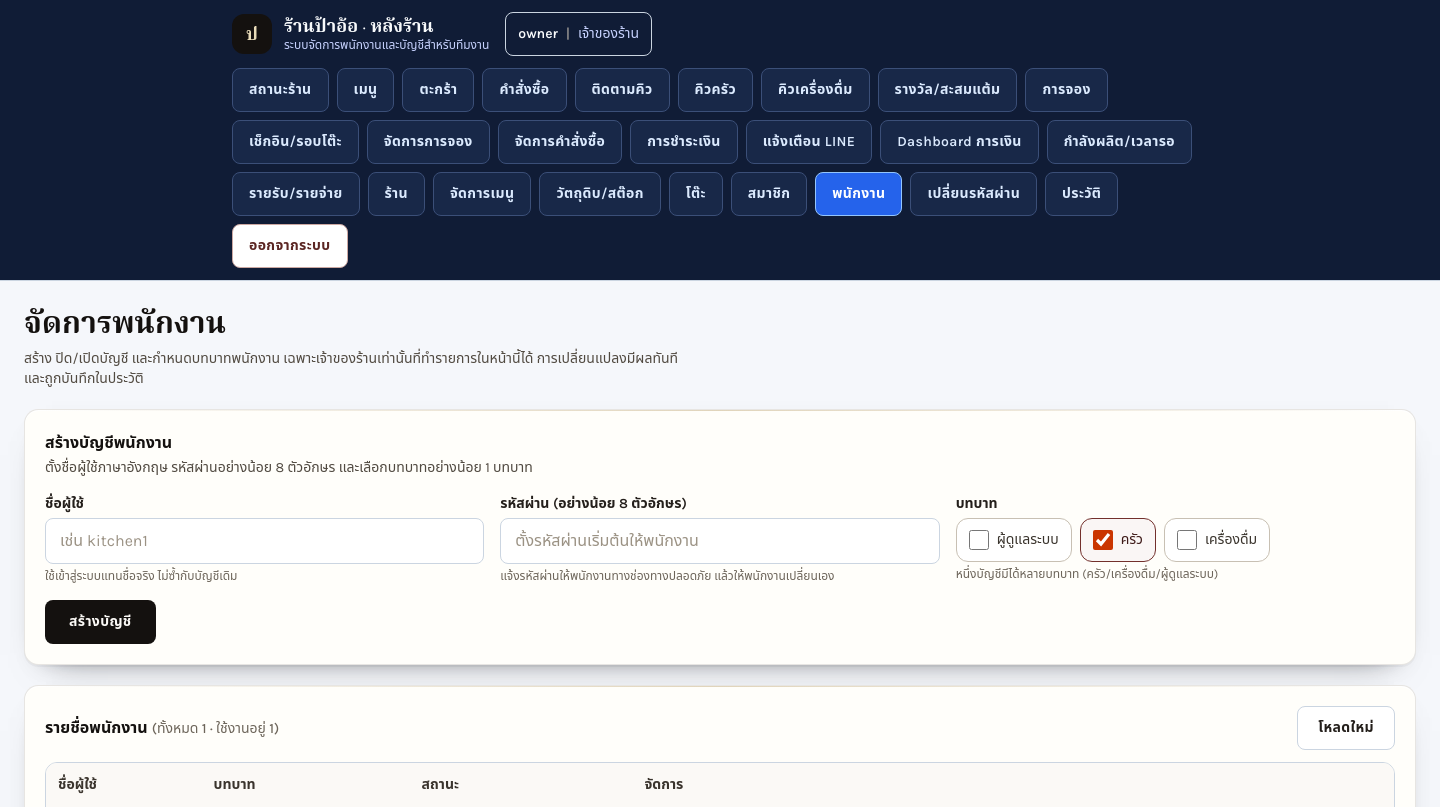
Test: App ระดับ integration (login/session flow) › ออกจากระบบแล้วกลับไปหน้าล็อกอิน
expect the heading "จัดการพนักงาน" is shown: met, box [24, 305, 226, 342]
What coordinates should you click on to do the following:
click the button "ออกจากระบบ"
I would click on:
 (290, 246)
Its box is [232, 224, 348, 268].
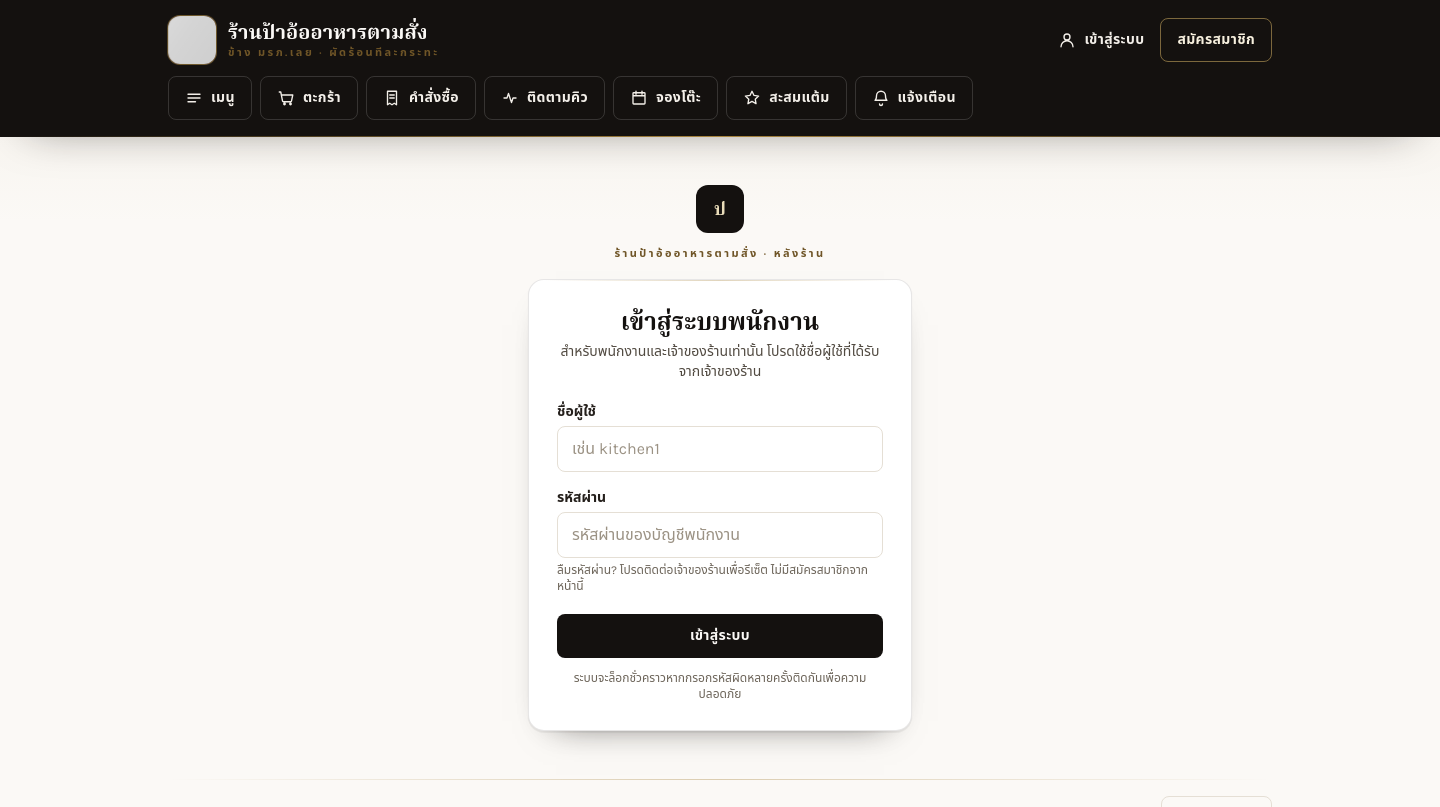
expect the field labelled "ชื่อผู้ใช้" is shown: met, box [557, 426, 883, 472]
